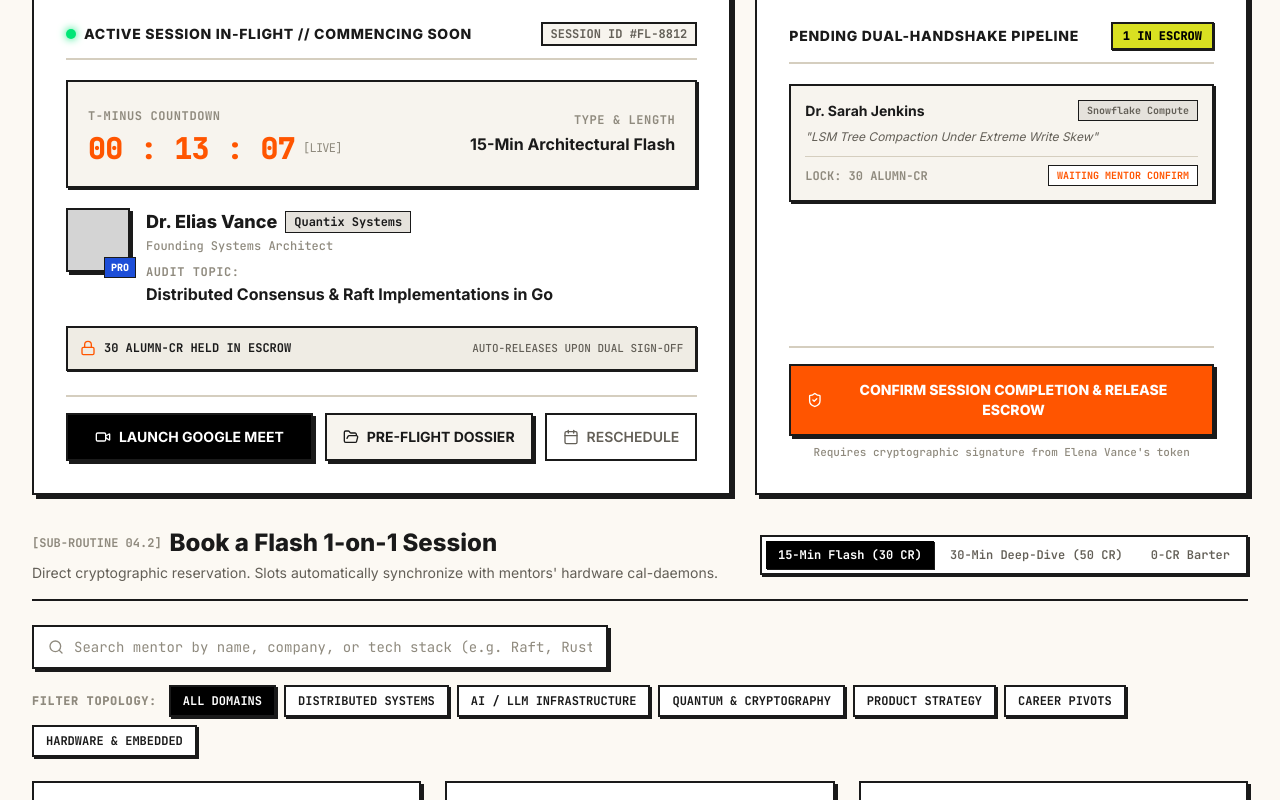
Test: MentorshipContent (Stitch Screen 7 Neobrutalist Redesign) › allows confirming session completion to release escrow in pending pipeline
(page scrolled)
Click the button "CONFIRM SESSION COMPLETION & RELEASE ESCROW" at (1002, 400), box top-left (789, 364), bottom-right (1214, 436)
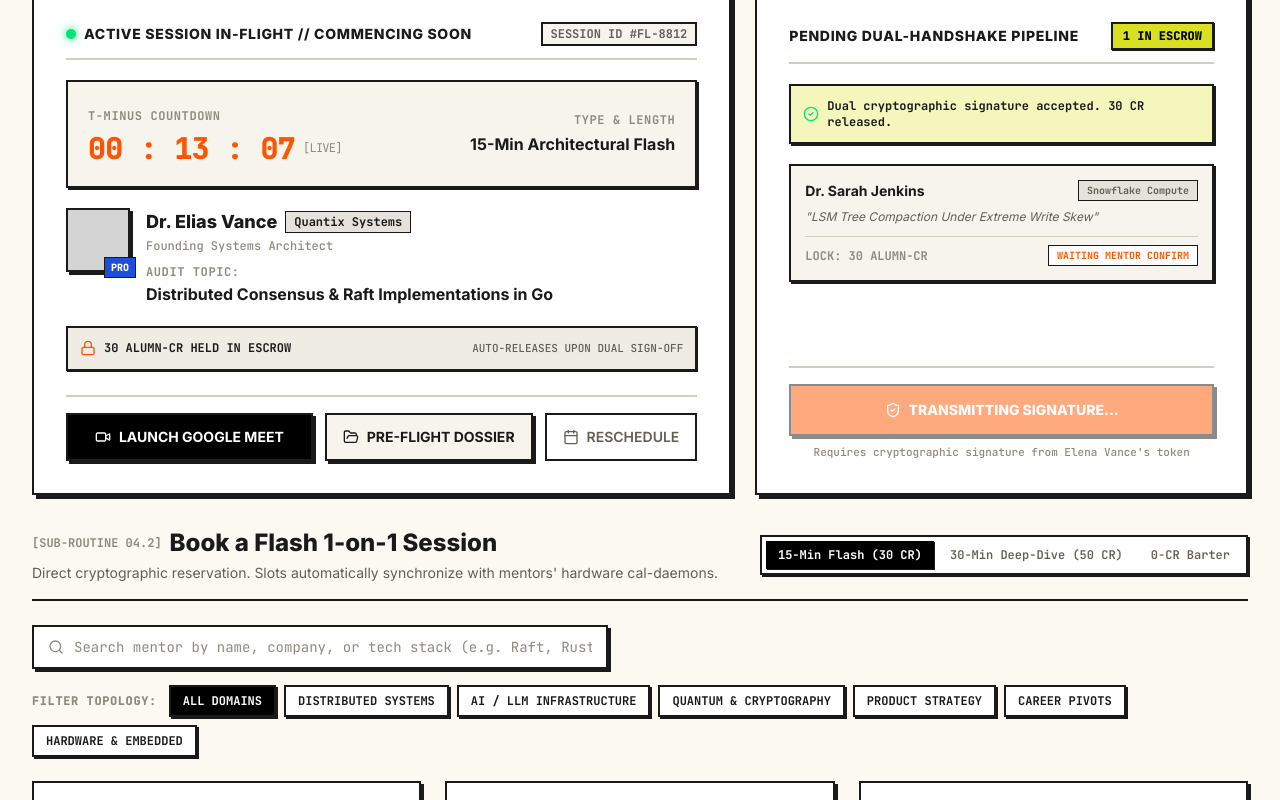
Now the text "Dual cryptographic signature accepted. 30 CR released." is shown, box top-left (827, 98), bottom-right (1200, 130)
